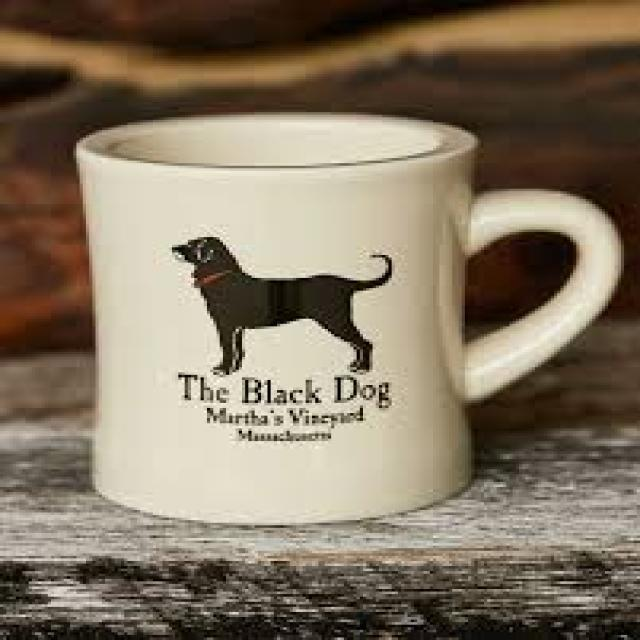taza: (75, 111, 622, 526)
